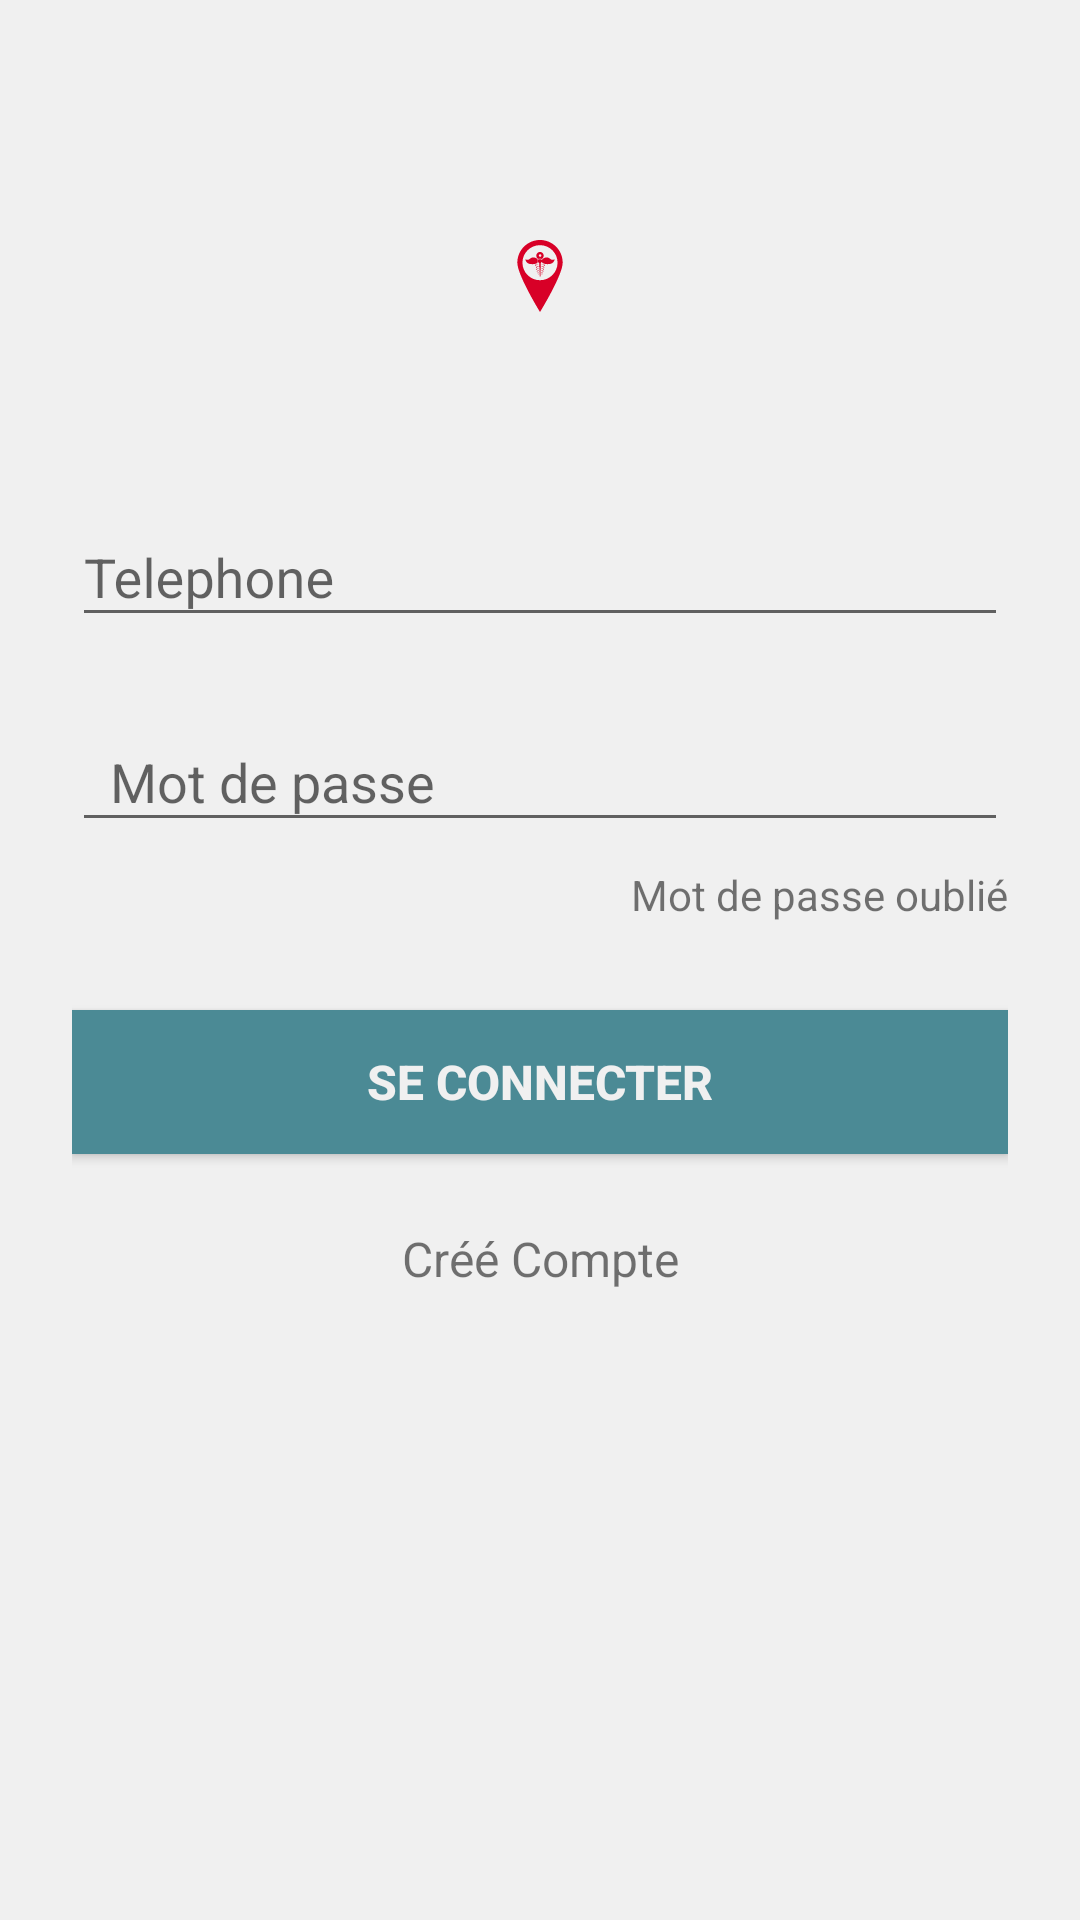

Named icons in this screenshot (1080w x 1920h) and their centers, (x=x, y=y):
pharmacy pin: (x=540, y=276)
